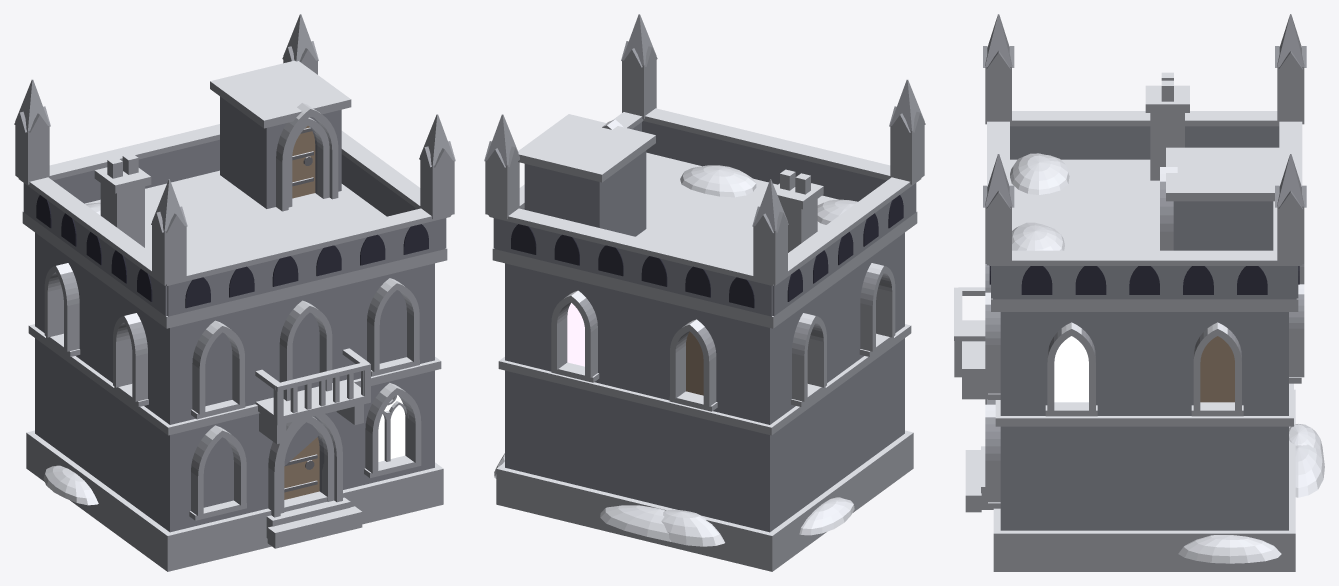
File: AR_Casa_Terraco.fbx
The picture shows the model from 3 angles, left to right: view 1: azimuth 30°, elevation 25°; view 2: azimuth 150°, elevation 25°; view 3: azimuth 270°, elevation 25°; orthographic projection. The views are drawn at different scales.
Visible parts, largest first — view 1: AR_Casa_Terraco; view 2: AR_Casa_Terraco; view 3: AR_Casa_Terraco.
Boxes of the visible parts, x1,y1,x2,y2 form: AR_Casa_Terraco: (14, 14, 455, 571); AR_Casa_Terraco: (484, 14, 925, 571); AR_Casa_Terraco: (954, 14, 1324, 571).
Size of the model in its own units: 10.23 by 11.94 by 9.65.
